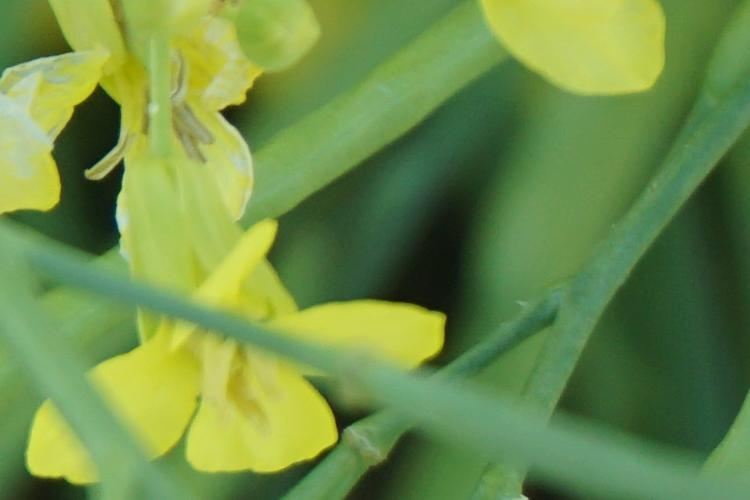bud: (232, 1, 326, 76)
yellow: (25, 145, 444, 475), (48, 1, 256, 230), (476, 1, 677, 97), (7, 49, 104, 222)
